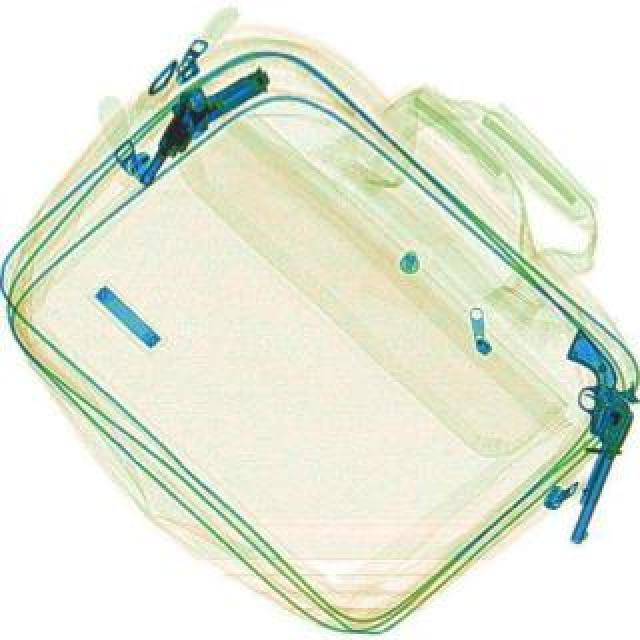gun: (112, 48, 272, 190), (522, 368, 638, 544)
